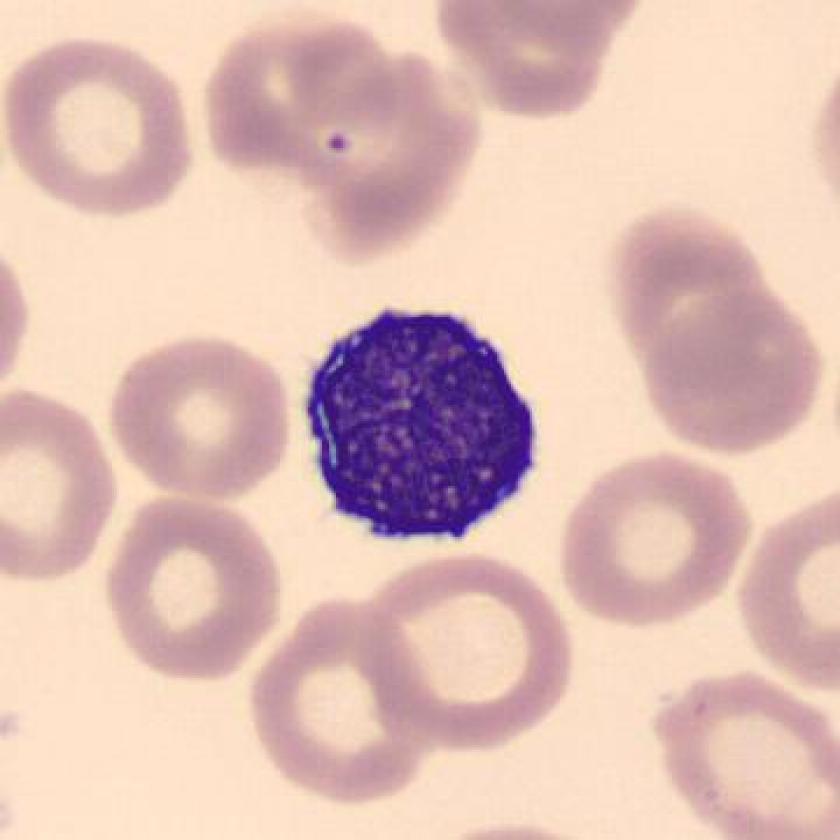lymphocyte: (290, 298, 559, 564)
